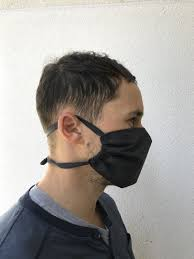with-mask: (39, 57, 156, 198)
